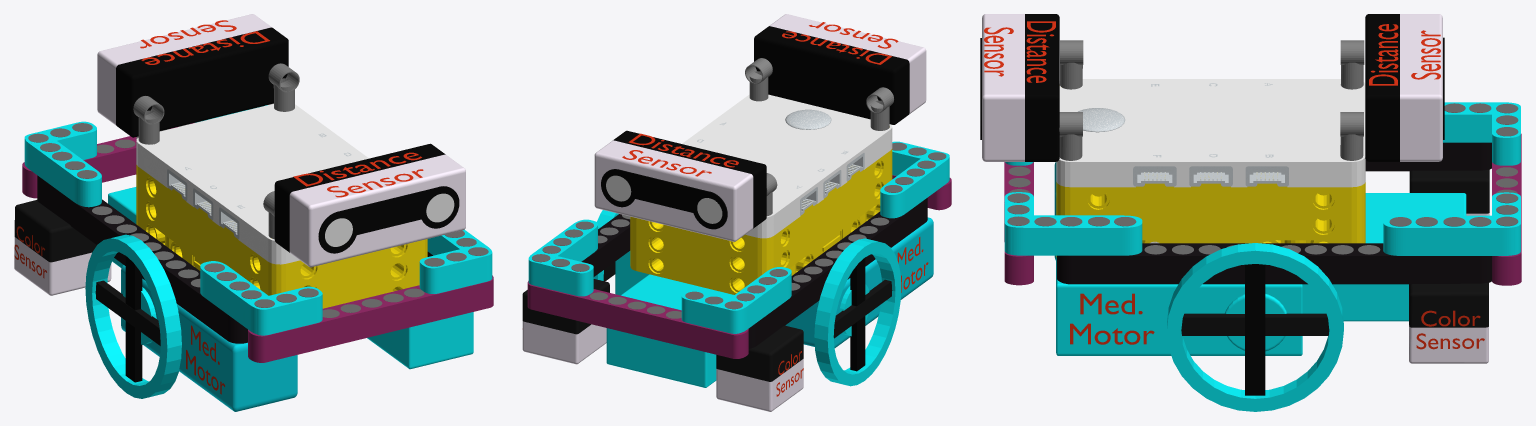
File: angerboyV1.5.fbx
3 renders of one model, left to right at view 1: azimuth 30°, elevation 25°; view 2: azimuth 150°, elevation 25°; view 3: azimuth 270°, elevation 25°, orthographic. The views are drawn at different scales.
Parts seen in each view (by area): view 1: Distance Sensor.001, Distance Sensor, group_1.023, Wheels, group_0.103, 11 stud 1.001, L. Motor, Color Sensor, 16 stud 2, 7 stud elbow 1, 7 stud elbow 3, R. Motor (+15 smaller); view 2: Distance Sensor, group_1.023, Distance Sensor.001, Wheels, group_0.103, 11 stud 1, Cube.001, Color Sensor, 16 stud 2, Color Sensor.001, 7 stud elbow 3, L. Motor (+17 smaller); view 3: group_0.103, Wheels, group_1.023, R. Motor, Distance Sensor, Distance Sensor.001, 16 stud 1, Cube.001, Color Sensor.001, 7 stud elbow 2, 7 stud elbow 4, group_0.080 (+19 smaller).
Part boxes in pixels (<box>): Distance Sensor.001: <box>97,14,288,137</box>; Distance Sensor: <box>274,143,465,267</box>; group_1.023: <box>136,165,427,308</box>; Wheels: <box>85,234,181,398</box>; group_0.103: <box>136,104,368,240</box>; 11 stud 1.001: <box>248,275,493,362</box>; L. Motor: <box>121,265,297,411</box>; Color Sensor: <box>14,200,111,295</box>; 16 stud 2: <box>37,175,247,343</box>; 7 stud elbow 1: <box>200,261,322,335</box>; 7 stud elbow 3: <box>24,121,101,207</box>; R. Motor: <box>367,312,473,369</box>; Distance Sensor: <box>754,14,926,124</box>; group_1.023: <box>630,149,892,294</box>; Distance Sensor.001: <box>594,130,766,241</box>; Wheels: <box>593,210,901,386</box>; group_0.103: <box>682,94,892,217</box>; 11 stud 1: <box>527,281,748,358</box>; Cube.001: <box>606,274,733,387</box>; Color Sensor: <box>716,325,803,411</box>; 16 stud 2: <box>748,198,927,348</box>; Color Sensor.001: <box>522,279,609,364</box>; 7 stud elbow 3: <box>681,267,791,333</box>; L. Motor: <box>785,217,933,347</box>; group_0.103: <box>1059,79,1365,161</box>; Wheels: <box>1167,243,1343,411</box>; group_1.023: <box>1056,182,1365,257</box>; R. Motor: <box>1056,256,1302,355</box>; Distance Sensor: <box>982,14,1059,161</box>; Distance Sensor.001: <box>1365,14,1442,161</box>; 16 stud 1: <box>1057,243,1492,284</box>; Cube.001: <box>1302,193,1466,321</box>; Color Sensor.001: <box>1409,283,1488,363</box>; 7 stud elbow 2: <box>1004,192,1142,255</box>; 7 stud elbow 4: <box>1383,192,1520,255</box>; group_0.080: <box>1070,162,1351,187</box>.
Bounding box in the file's own units: 335 × 301 × 515.
